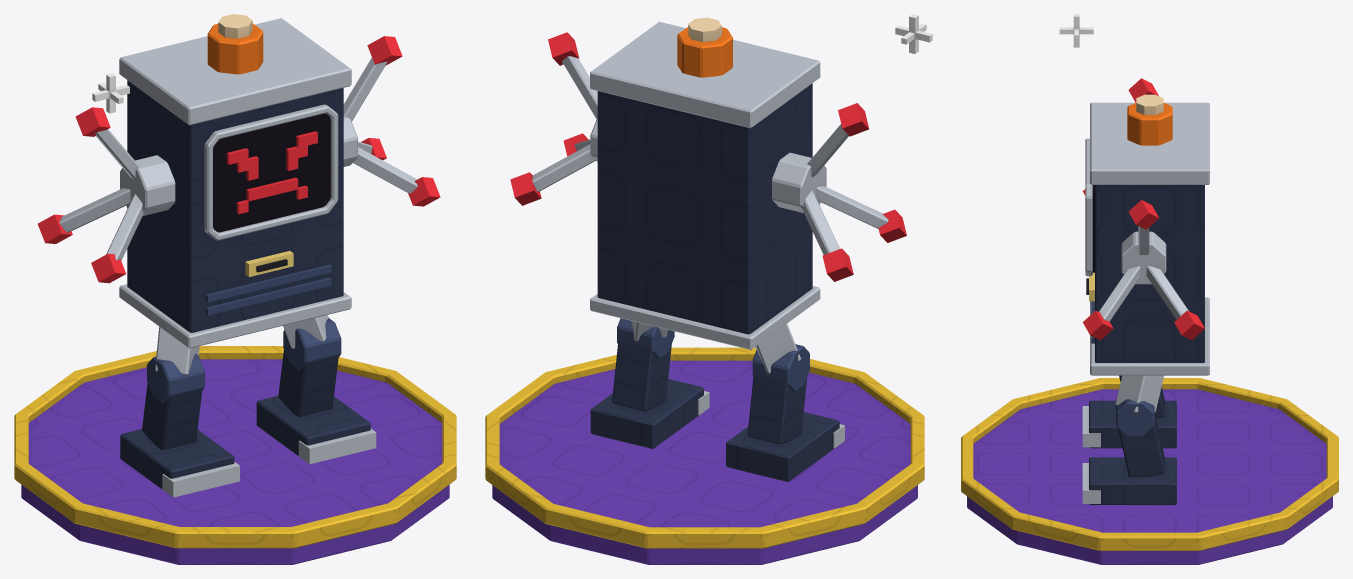
File: TurnstileTerminator.fbx
3 views of the same model, side by side, from view 1: azimuth 30°, elevation 25°; view 2: azimuth 150°, elevation 25°; view 3: azimuth 270°, elevation 25° (orthographic). The views are drawn at different scales.
Visible parts, largest first — view 1: Art_TurnstileTerminator_Stand, Art_TurnstileTerminator_Body, Art_TurnstileTerminator_LegL, Art_TurnstileTerminator_LegR, Art_TurnstileTerminator_ArmL, Art_TurnstileTerminator_ArmR, Art_TurnstileTerminator_Lamp; view 2: Art_TurnstileTerminator_Stand, Art_TurnstileTerminator_Body, Art_TurnstileTerminator_LegL, Art_TurnstileTerminator_LegR, Art_TurnstileTerminator_ArmL, Art_TurnstileTerminator_ArmR, Art_TurnstileTerminator_Lamp; view 3: Art_TurnstileTerminator_Stand, Art_TurnstileTerminator_Body, Art_TurnstileTerminator_LegR, Art_TurnstileTerminator_ArmR, Art_TurnstileTerminator_LegL, Art_TurnstileTerminator_Lamp.
Boxes of the visible parts, bbox=[...] form: Art_TurnstileTerminator_Stand: bbox=[14, 73, 456, 564]; Art_TurnstileTerminator_Body: bbox=[119, 18, 351, 348]; Art_TurnstileTerminator_LegL: bbox=[120, 327, 239, 497]; Art_TurnstileTerminator_LegR: bbox=[256, 315, 376, 464]; Art_TurnstileTerminator_ArmL: bbox=[37, 107, 175, 283]; Art_TurnstileTerminator_ArmR: bbox=[343, 36, 440, 206]; Art_TurnstileTerminator_Lamp: bbox=[207, 14, 263, 74]; Art_TurnstileTerminator_Stand: bbox=[485, 14, 932, 564]; Art_TurnstileTerminator_Body: bbox=[590, 21, 820, 349]; Art_TurnstileTerminator_LegL: bbox=[726, 323, 844, 481]; Art_TurnstileTerminator_LegR: bbox=[590, 318, 709, 448]; Art_TurnstileTerminator_ArmL: bbox=[772, 103, 906, 281]; Art_TurnstileTerminator_ArmR: bbox=[510, 32, 597, 205]; Art_TurnstileTerminator_Lamp: bbox=[677, 17, 732, 77]; Art_TurnstileTerminator_Stand: bbox=[961, 14, 1338, 564]; Art_TurnstileTerminator_Body: bbox=[1085, 102, 1209, 375]; Art_TurnstileTerminator_LegR: bbox=[1082, 375, 1176, 504]; Art_TurnstileTerminator_ArmR: bbox=[1082, 200, 1204, 340]; Art_TurnstileTerminator_LegL: bbox=[1082, 375, 1176, 448]; Art_TurnstileTerminator_Lamp: bbox=[1127, 94, 1172, 145].
Size of the model in its own units: 3.09 by 3.64 by 3.09.
